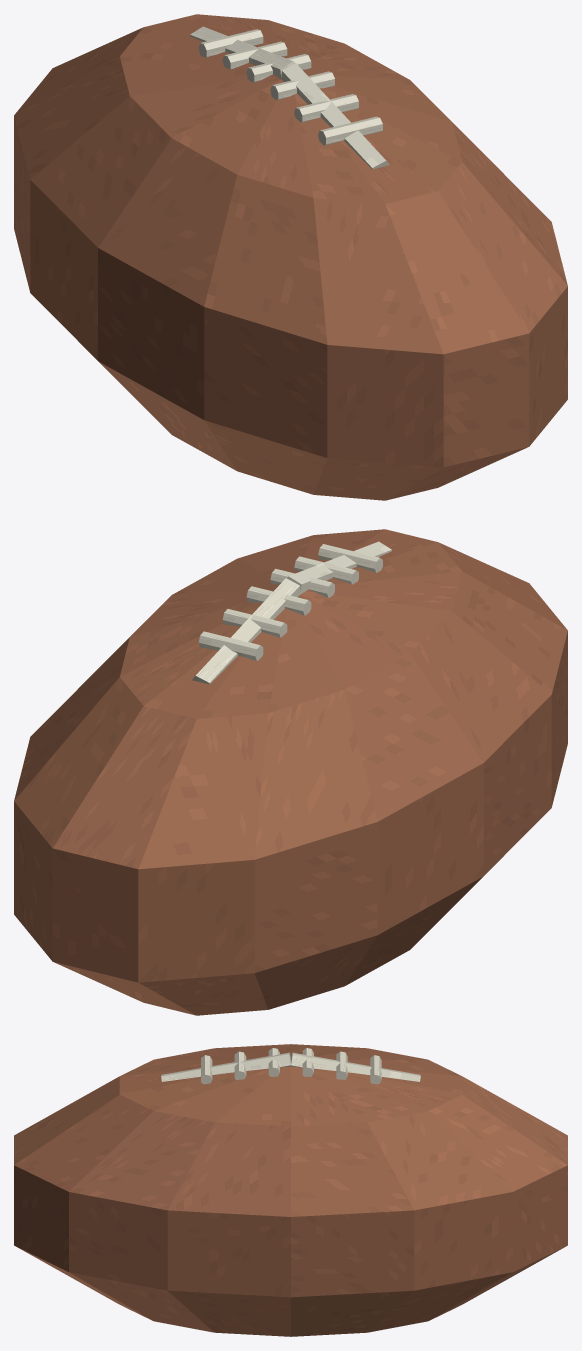
The model's file is football.glb.
3 views of the same model, one above another, from view 1: azimuth 30°, elevation 25°; view 2: azimuth 150°, elevation 25°; view 3: azimuth 270°, elevation 25° (orthographic). The views are drawn at different scales.
Visible parts, largest first — view 1: block_ball body, block_cross lace (×6), block_lace strip 1, block_lace strip 0; view 2: block_ball body, block_cross lace (×6), block_lace strip 0, block_lace strip 1; view 3: block_ball body, block_lace strip 0, block_lace strip 1.
Part boxes in pixels (box(x1,y1,x2,y2)): block_ball body: box(14, 14, 567, 500); block_cross lace (×6): box(198, 29, 382, 145); block_lace strip 1: box(281, 63, 389, 169); block_lace strip 0: box(190, 26, 295, 78); block_ball body: box(14, 529, 567, 1015); block_cross lace (×6): box(198, 544, 382, 660); block_lace strip 0: box(192, 578, 300, 684); block_lace strip 1: box(286, 541, 391, 593); block_ball body: box(14, 1044, 567, 1336); block_lace strip 0: box(291, 1052, 420, 1081); block_lace strip 1: box(161, 1052, 290, 1081).
Size of the model in its own units: 0.1653 by 0.1546 by 0.29.
Materials: 1 (1 with a texture image).
